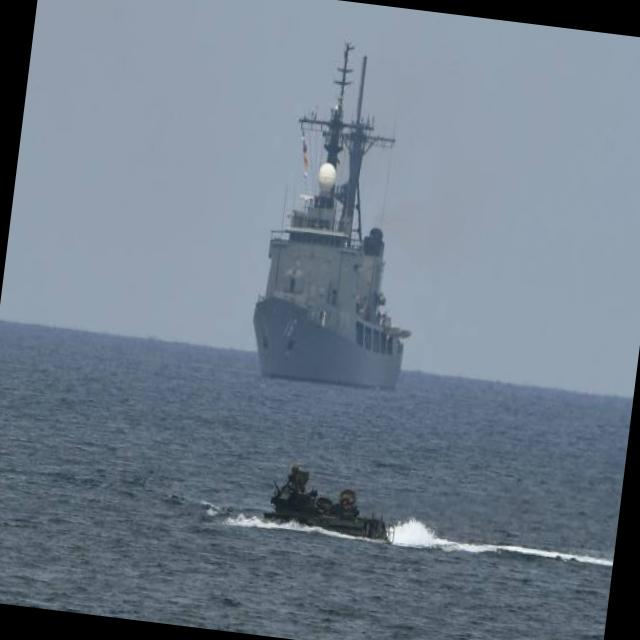Military: (252, 45, 409, 392)
